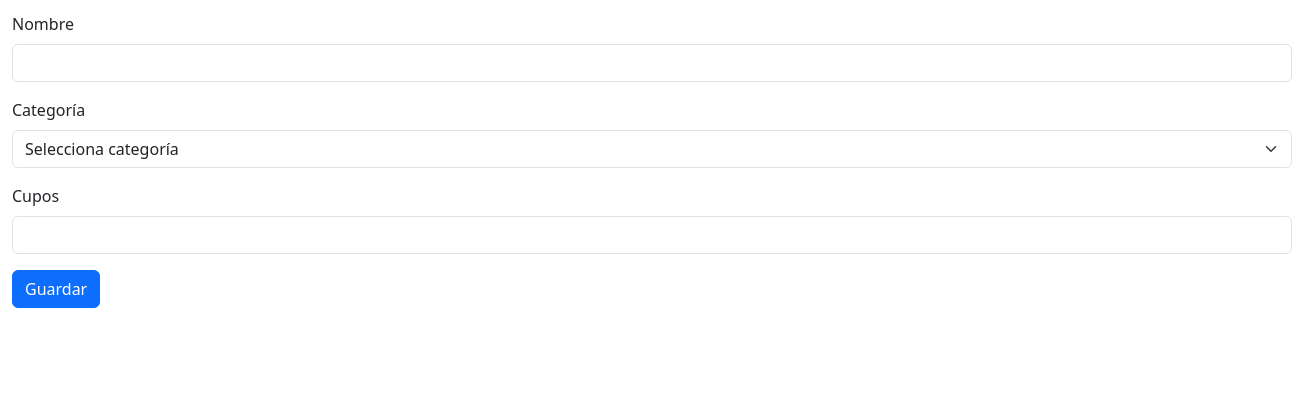
FormularioActividad › muestra mensajes de validación al enviar los campos vacíos
Click the button "Guardar".
click(56, 289)  # box [12,270,100,308]
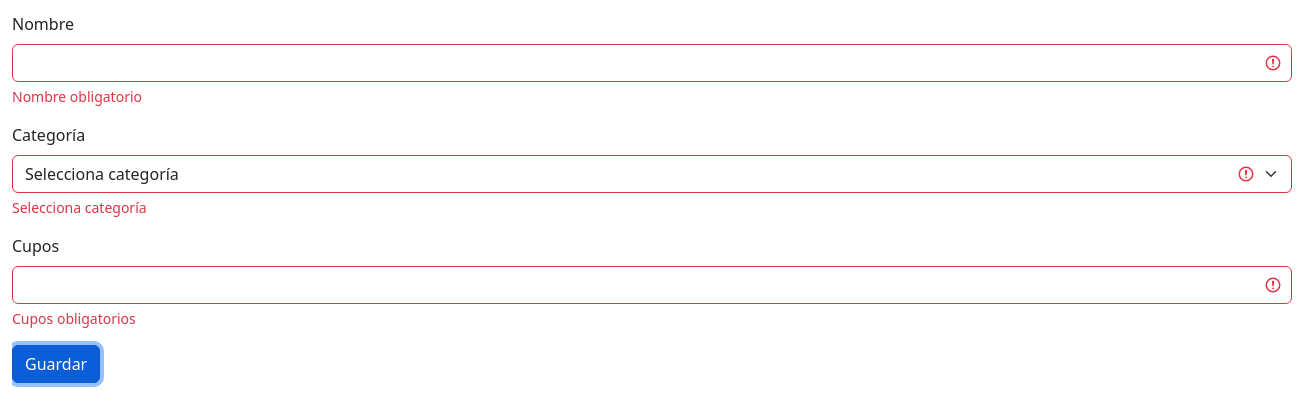
Expected: the text "Nombre obligatorio" is shown, [12,87,142,106]
Expected: the text "Selecciona categoría" is shown, [12,198,147,217]
Expected: the text "Cupos obligatorios" is shown, [12,309,136,328]
